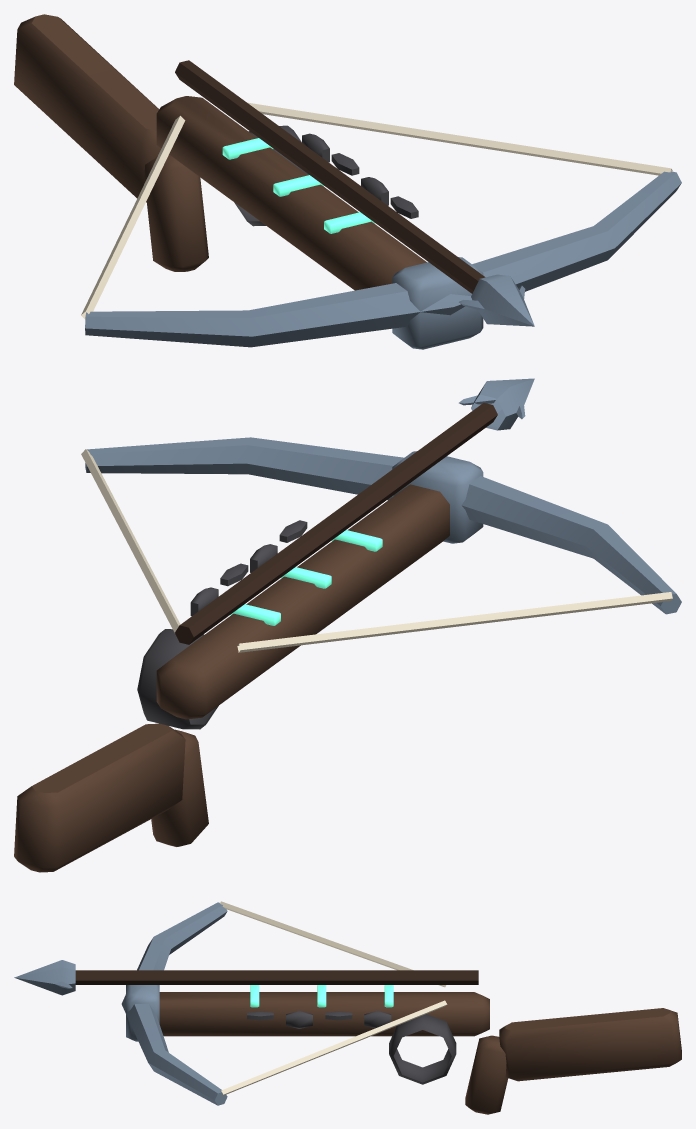
File: harpoon-3.glb
3 renders of one model, top to bottom at view 1: azimuth 30°, elevation 25°; view 2: azimuth 150°, elevation 25°; view 3: azimuth 270°, elevation 25°, orthographic. The views are drawn at different scales.
Visible parts, largest first — view 1: harpoon-3; view 2: harpoon-3; view 3: harpoon-3.
Boxes of the visible parts, x1,y1,x2,y2 form: harpoon-3: (14, 14, 681, 349); harpoon-3: (14, 378, 681, 872); harpoon-3: (14, 901, 681, 1114).
Size of the model in its own units: 0.4079 by 0.1463 by 0.5965.
